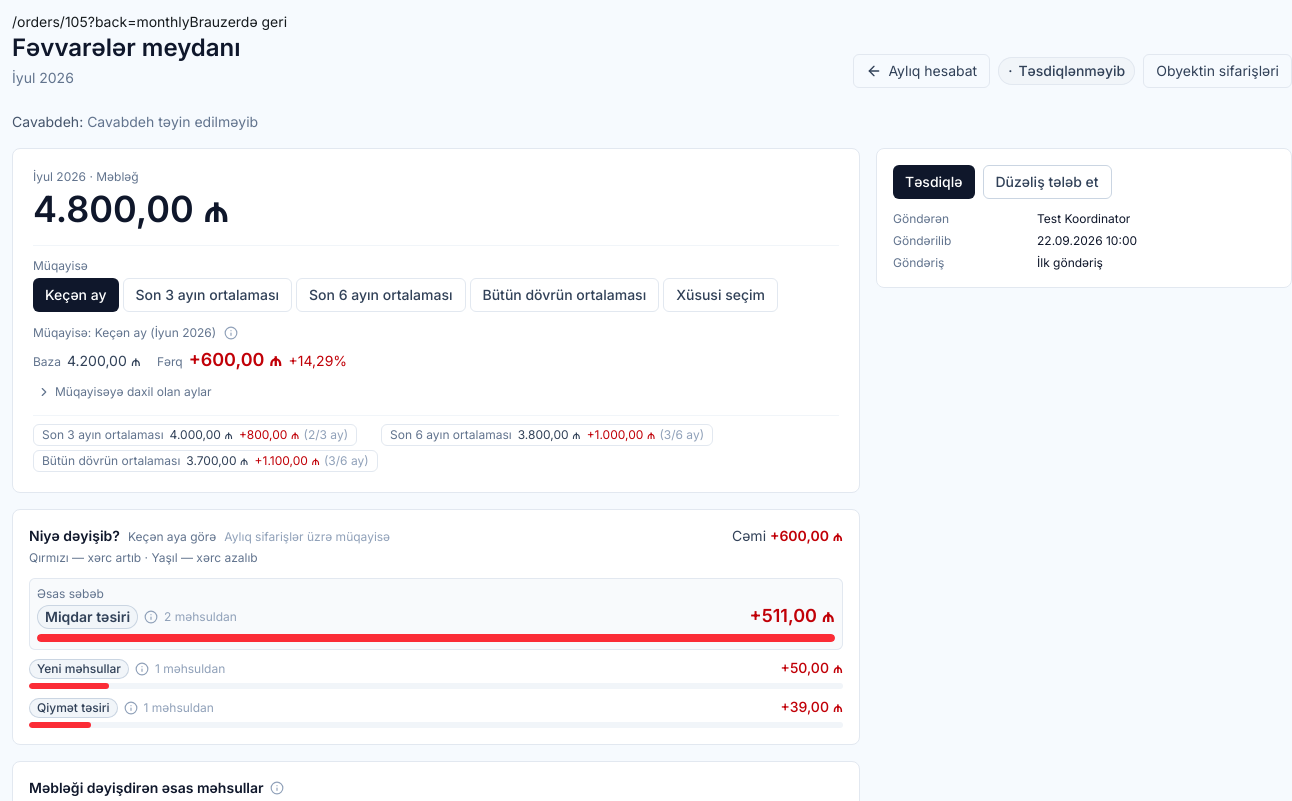
Test case: the way back to the monthly report › opens the report for the order’s year once the reader has pushed an entry of this page’s own
expect the element named "Sifarişin məbləği və müqayisəsi" is shown: met, box x1=12 y1=148 x2=860 y2=493
Step 1. Click the button "Son 3 ayın ortalaması" → point(207, 295), box x1=122 y1=278 x2=292 y2=312
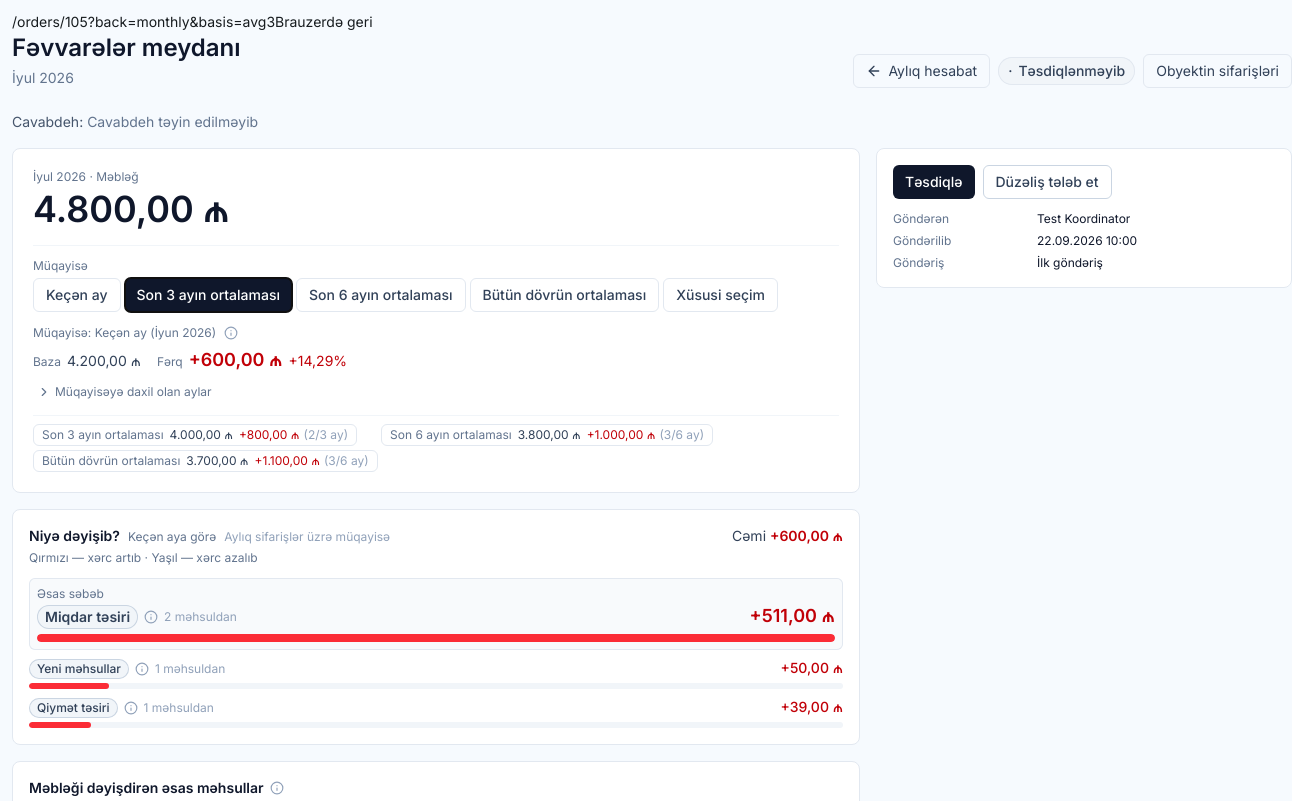
expect the text with test id "address" reads "/orders/105?back=monthly&basis=avg3": met, box x1=12 y1=13 x2=275 y2=30
Step 2. Click the link "Aylıq hesabat" → point(922, 71), box x1=853 y1=54 x2=990 y2=88
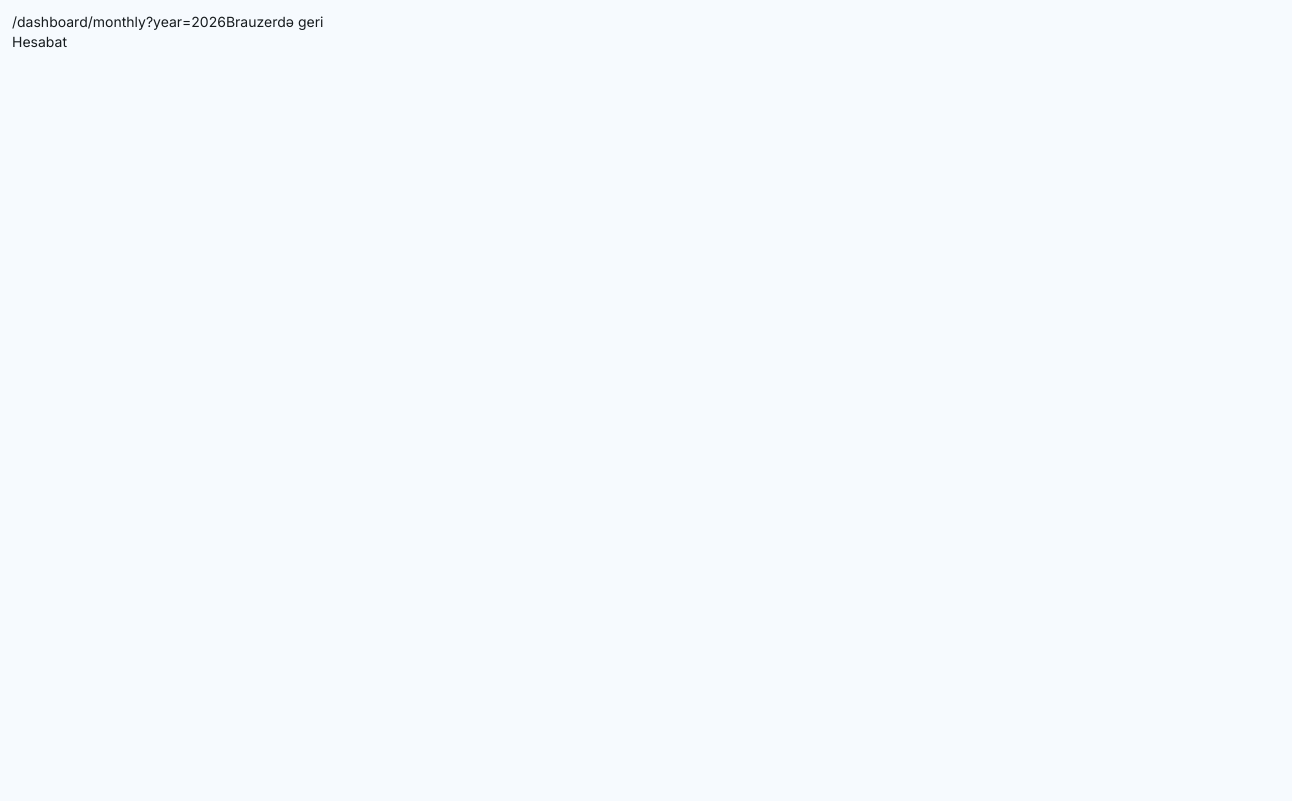
expect the text with test id "address" reads "/dashboard/monthly?year=2026": met, box x1=12 y1=13 x2=226 y2=30
